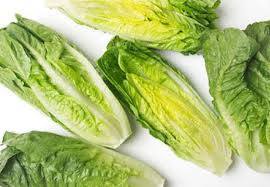Lettuce: (84, 25, 231, 181), (1, 12, 128, 149), (197, 19, 270, 167)
